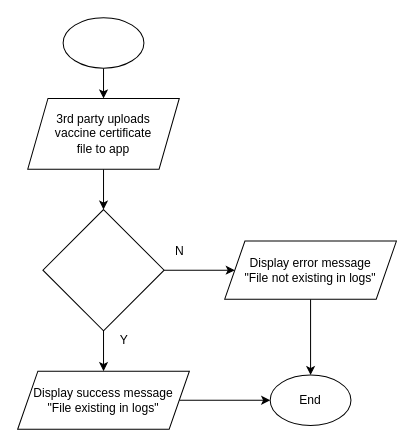
This 414x447 diagram has some shape labels left out. The shapes that lost their labels are listed below. From the top down, each one's box as (x1, y1, x2, y2) in pixels, then its label:
(62, 17, 144, 68): Start
(42, 209, 164, 331): Is file existing in blockchain logs?
